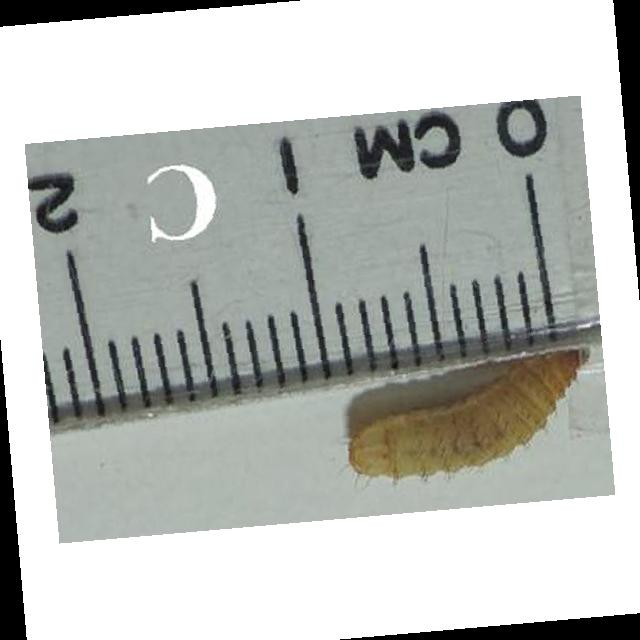Maggot: (351, 345, 599, 481)
